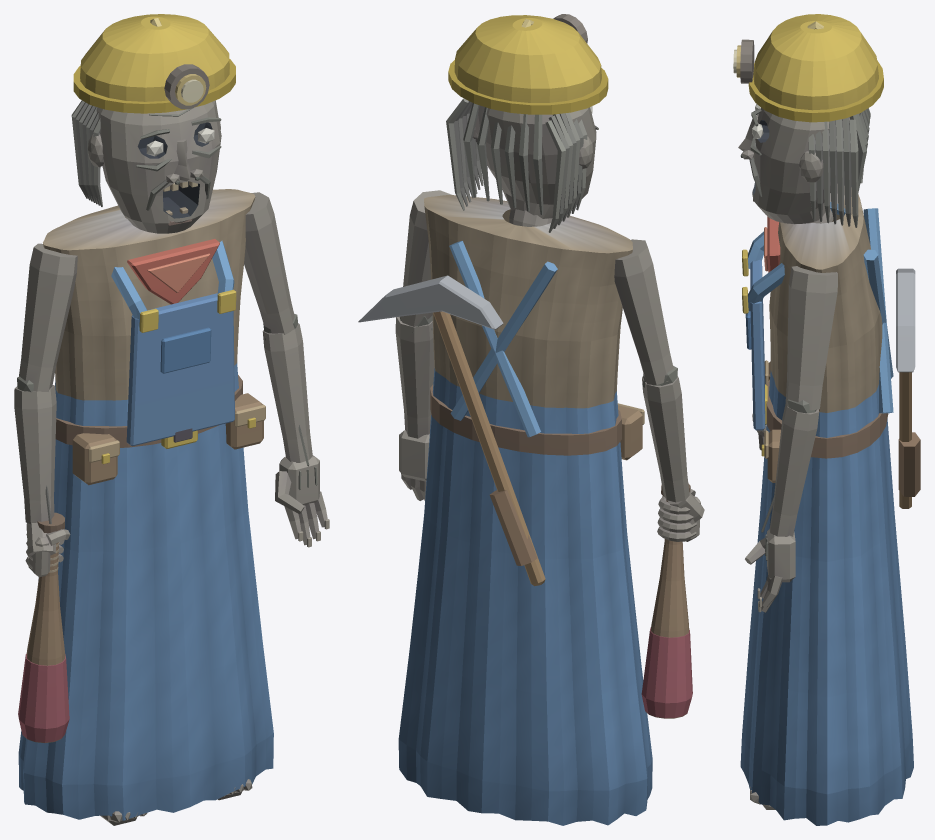
The model's file is GrannyMiner.glb.
3 renders of one model, left to right at view 1: azimuth 30°, elevation 25°; view 2: azimuth 150°, elevation 25°; view 3: azimuth 270°, elevation 25°, orthographic.
Parts seen in each view (by area): view 1: Body, Head, ArmR, ArmL; view 2: Body, Head, ArmR, ArmL; view 3: Body, Head, ArmL.
Boxes of the visible parts, x1=… form: Body: x1=18, y1=189, x2=273, y2=820; Head: x1=71, y1=14, x2=235, y2=233; ArmR: x1=14, y1=243, x2=77, y2=742; ArmL: x1=244, y1=192, x2=329, y2=547; Body: x1=358, y1=195, x2=652, y2=825; Head: x1=446, y1=14, x2=608, y2=232; ArmR: x1=614, y1=239, x2=704, y2=718; ArmL: x1=395, y1=190, x2=451, y2=500; Body: x1=740, y1=184, x2=920, y2=825; Head: x1=733, y1=14, x2=883, y2=227; ArmL: x1=745, y1=266, x2=837, y2=612.
Size of the model in its own units: 2.62 by 6.47 by 1.45.
